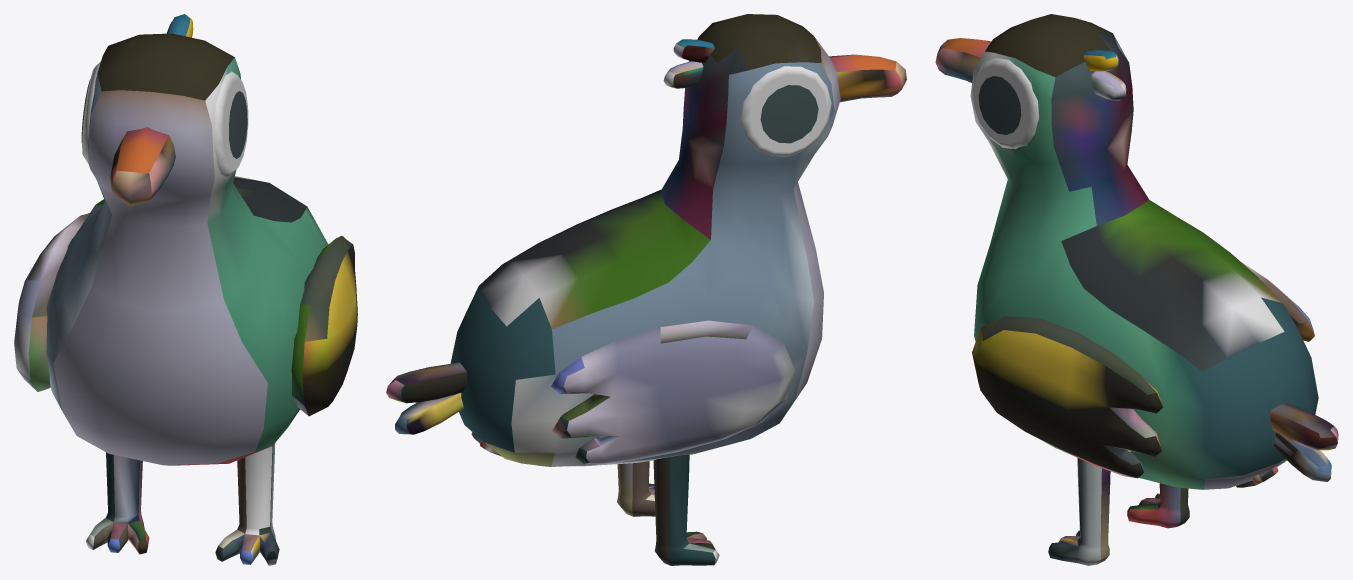
File: Seagull.glb
3 views of the same model, side by side, from view 1: azimuth 30°, elevation 25°; view 2: azimuth 150°, elevation 25°; view 3: azimuth 270°, elevation 25° (orthographic). The views are drawn at different scales.
Parts seen in each view (by area): view 1: 145; view 2: 145; view 3: 145.
Boxes of the visible parts, bbox=[...] form: 145: bbox=[14, 14, 357, 565]; 145: bbox=[386, 14, 906, 565]; 145: bbox=[935, 14, 1338, 565].
Size of the model in its own units: 0.4992 by 0.731 by 0.548.
